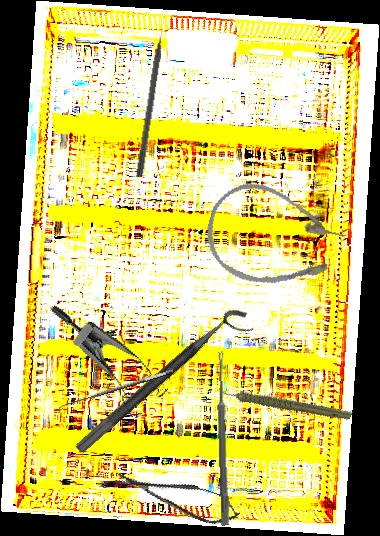Cannula: (196, 173, 354, 304)
Fixation Ring: (73, 301, 259, 469)
Handpiece: (216, 357, 354, 447)
Hook Surgical: (55, 367, 177, 418)
Micro Scissor: (110, 458, 244, 533)
Pusher: (135, 15, 170, 178)
Speculum: (23, 302, 181, 427)
Surgical Spoon: (215, 351, 231, 526)
